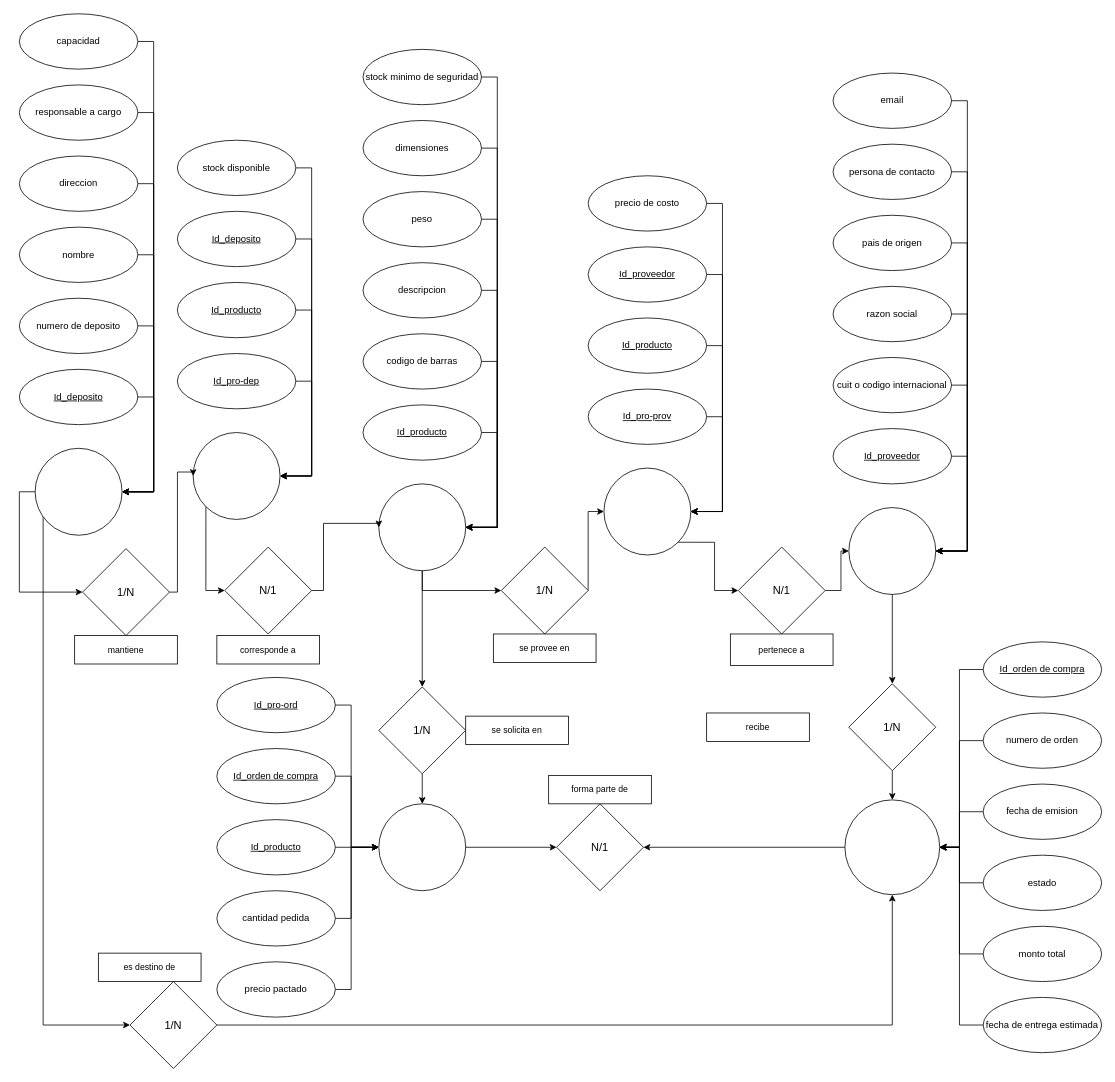
The diagram is 1115 pixels wide and 1082 high, and some of its shapes have lost their labels. The box of each missing label's shape, as (x1, y1, x2, y2) in pixels:
DEPOSITO: (34, 448, 122, 535)
ORDEN DE COMPRA: (844, 799, 940, 895)
PRO-DEP: (192, 432, 280, 519)
PRO-ORD: (378, 803, 466, 891)
PRO-PROV: (603, 467, 691, 555)
PRODUCTO: (378, 483, 466, 571)
PROVEEDOR: (848, 507, 936, 594)
